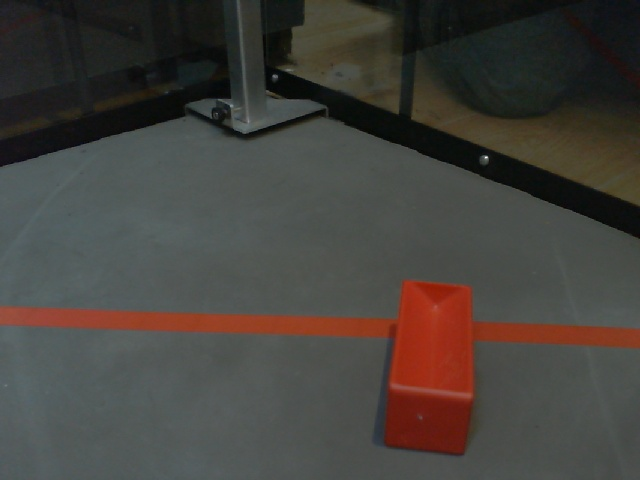RedSample: (381, 279, 477, 455)
